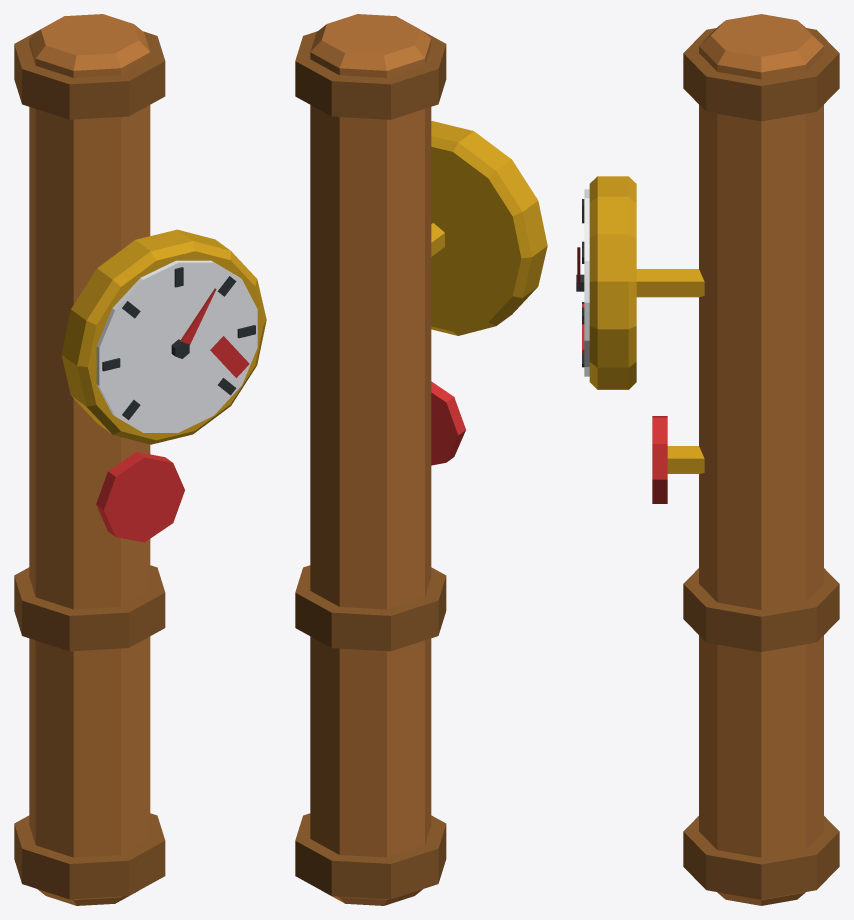
The model's file is manometer.glb.
The picture shows the model from 3 angles, left to right: view 1: azimuth 30°, elevation 25°; view 2: azimuth 150°, elevation 25°; view 3: azimuth 270°, elevation 25°; orthographic projection.
Parts seen in each view (by area): view 1: manometer-m, zeiger-m; view 2: manometer-m; view 3: manometer-m.
Boxes of the visible parts, x1,y1,x2,y2 form: manometer-m: (14,14,266,905); zeiger-m: (171,288,216,358); manometer-m: (295,14,547,905); manometer-m: (582,14,839,905).
Size of the model in its own units: 0.28 by 1.2 by 0.337.
